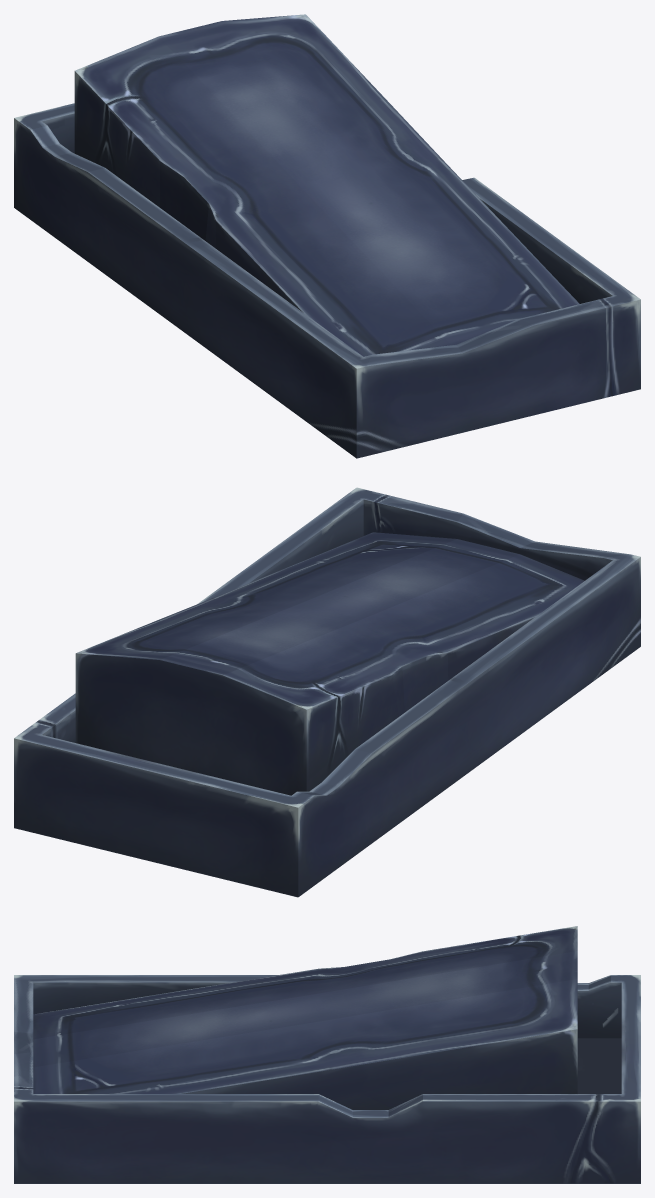
File: tomb_2.fbx
3 views of the same model, one above another, from view 1: azimuth 30°, elevation 25°; view 2: azimuth 150°, elevation 25°; view 3: azimuth 270°, elevation 25° (orthographic). The views are drawn at different scales.
Visible parts, largest first — view 1: Cube.013; view 2: Cube.013; view 3: Cube.013.
Part boxes in pixels (<box>): Cube.013: <box>14,14,640,458</box>; Cube.013: <box>14,487,640,897</box>; Cube.013: <box>14,926,640,1183</box>.
Bounding box in the file's own units: 328 × 187 × 684.
